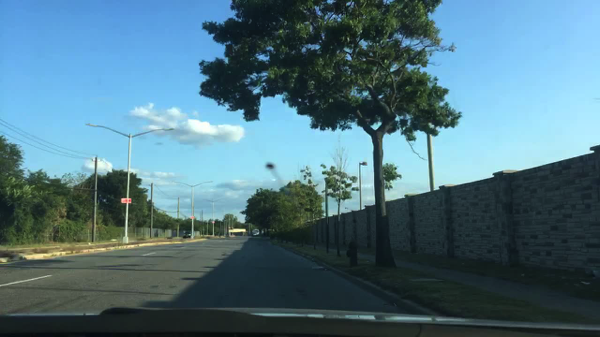bus: (251, 228, 265, 237)
car: (183, 231, 193, 239), (267, 229, 275, 236)
traffic sign: (121, 198, 132, 203), (190, 217, 195, 220), (211, 220, 215, 223)
